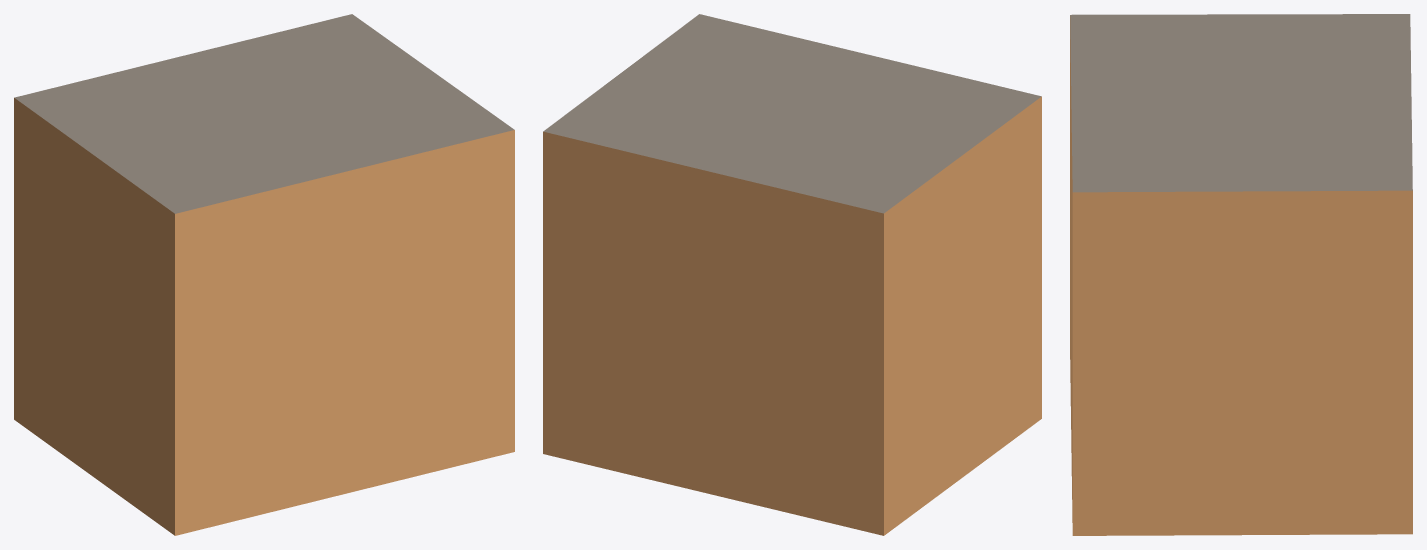
3 views of the same model, side by side, from view 1: azimuth 30°, elevation 25°; view 2: azimuth 150°, elevation 25°; view 3: azimuth 270°, elevation 25° (orthographic). The views are drawn at different scales.
Visible parts, largest first — view 1: element.007; view 2: element.007; view 3: element.007.
Part boxes in pixels (box(x1,y1,x2,y2)): element.007: box(14, 14, 514, 535); element.007: box(543, 14, 1041, 535); element.007: box(1070, 14, 1412, 535).
Size of the model in its own units: 18.5 by 16.63 by 15.03.
